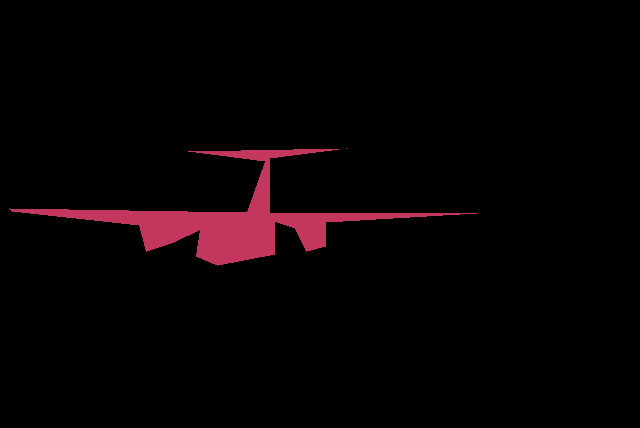Airplane: (9, 148, 477, 266)
